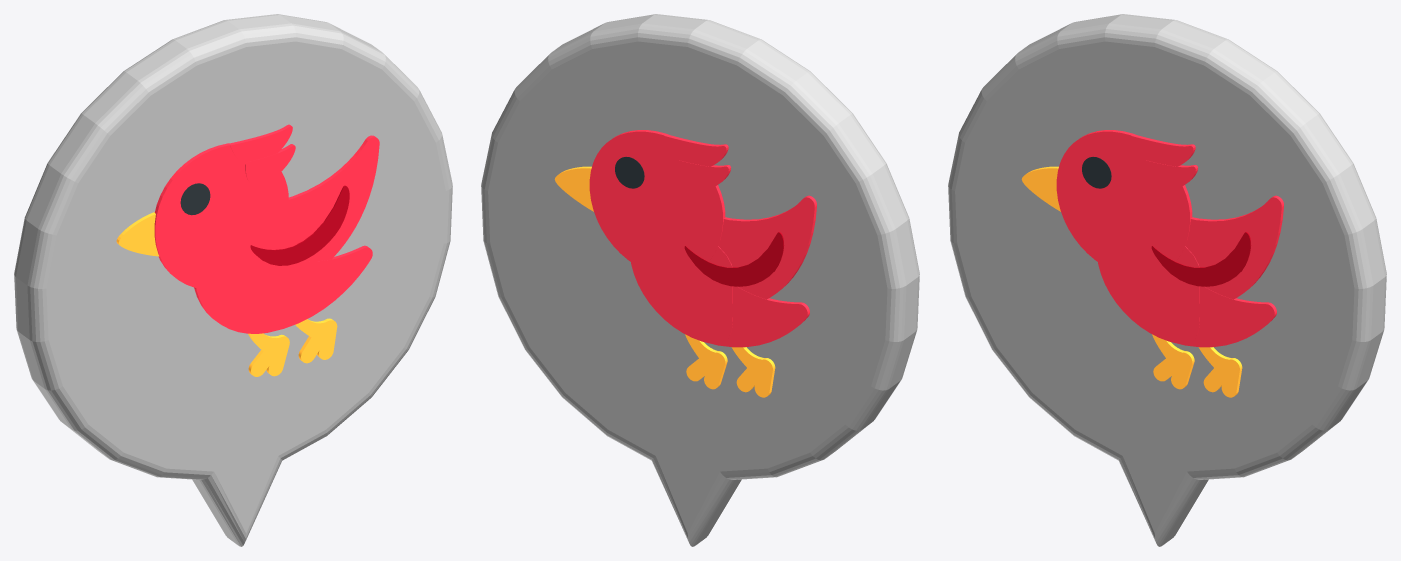
The model's file is bird.glb.
3 views of the same model, side by side, from view 1: azimuth 30°, elevation 25°; view 2: azimuth 150°, elevation 25°; view 3: azimuth 330°, elevation 25° (orthographic).
Parts seen in each view (by area): view 1: EmotionBubble; view 2: EmotionBubble; view 3: EmotionBubble.
Boxes of the visible parts, bbox=[...] form: EmotionBubble: bbox=[14, 14, 452, 546]; EmotionBubble: bbox=[481, 14, 919, 546]; EmotionBubble: bbox=[948, 14, 1386, 546].
Size of the model in its own units: 5.29 by 6.16 by 0.73.
